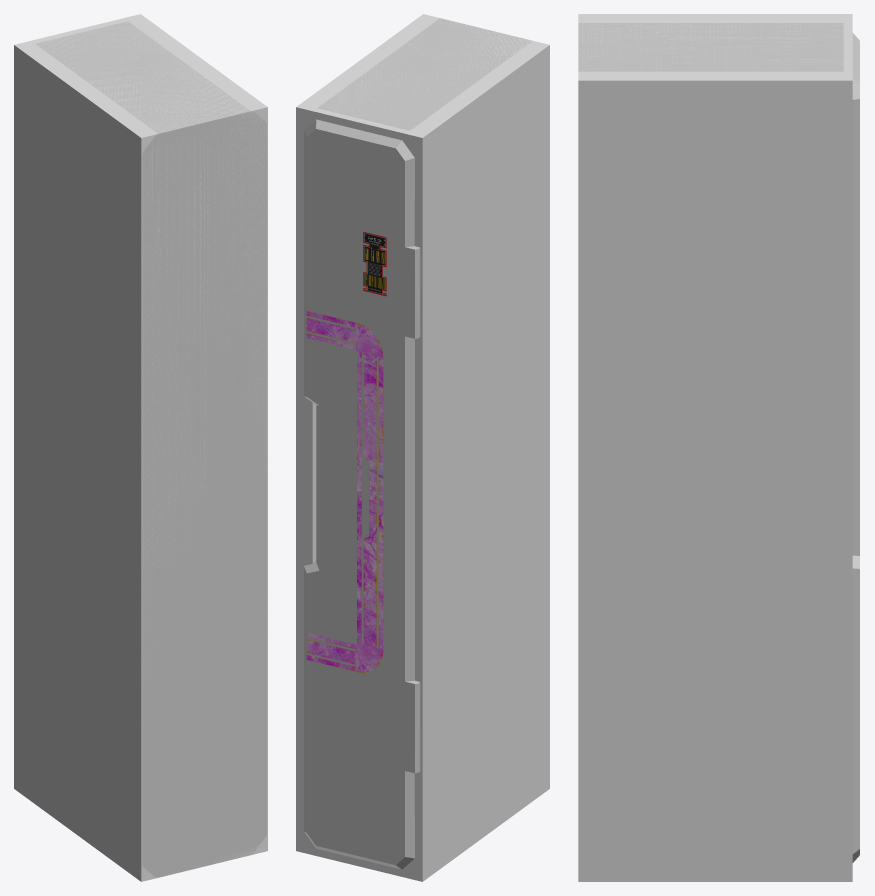
Rendered from locker_01.fbx.
The picture shows the model from 3 angles, left to right: view 1: azimuth 30°, elevation 25°; view 2: azimuth 150°, elevation 25°; view 3: azimuth 270°, elevation 25°; orthographic projection. The views are drawn at different scales.
Visible parts, largest first — view 1: Cube.216, Cube.218; view 2: Cube.216, Cube.217, Cube.218, Cube.220, Cube.215; view 3: Cube.216, Cube.218, Cube.217.
Part boxes in pixels (x1,y1,x2,y2): Cube.216: [14, 14, 267, 881]; Cube.218: [35, 21, 266, 877]; Cube.216: [296, 14, 549, 881]; Cube.217: [304, 119, 420, 869]; Cube.218: [317, 18, 532, 130]; Cube.220: [306, 311, 383, 672]; Cube.215: [363, 232, 386, 296]; Cube.216: [578, 14, 852, 881]; Cube.218: [578, 23, 843, 71]; Cube.217: [852, 33, 859, 862].
Bounding box in the file's own units: 0.3563 × 2 × 0.638.
